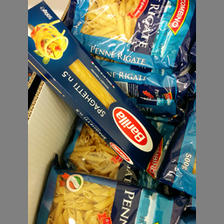pasta: (28, 1, 163, 173), (36, 162, 183, 224), (69, 1, 196, 69)
